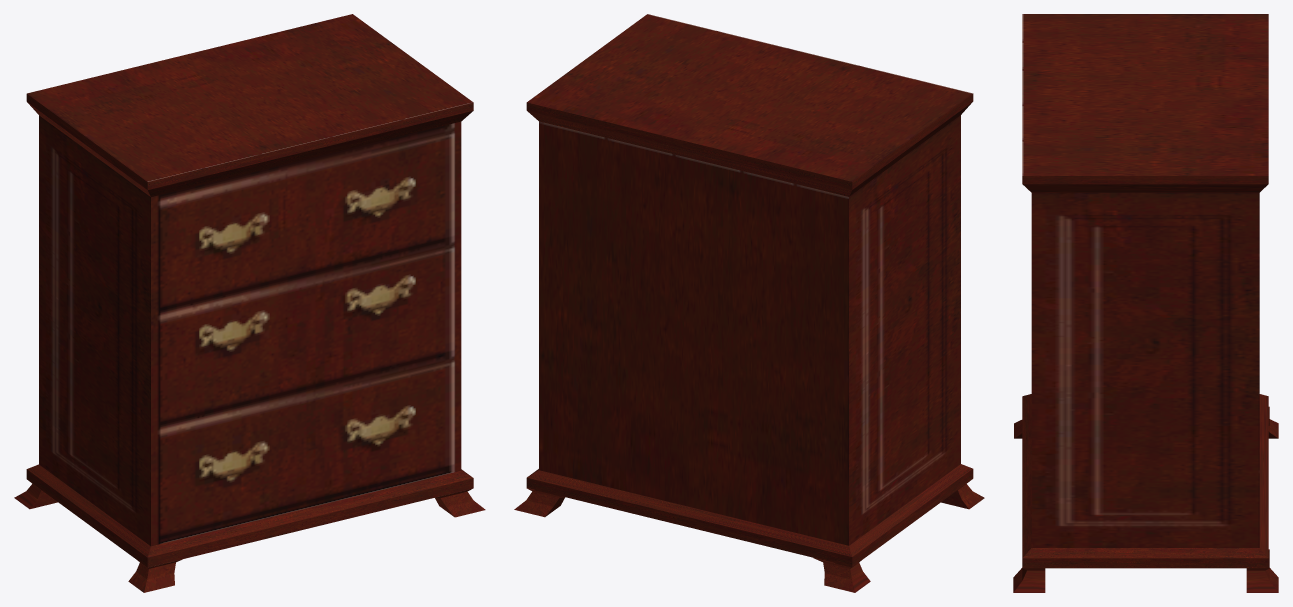
File: med_dresser.fbx
3 renders of one model, left to right at view 1: azimuth 30°, elevation 25°; view 2: azimuth 150°, elevation 25°; view 3: azimuth 270°, elevation 25°, orthographic.
Parts seen in each view (by area): view 1: mesh_0; view 2: mesh_0; view 3: mesh_0.
Part boxes in pixels (x1,y1,x2,y2): mesh_0: (14, 14, 485, 592); mesh_0: (514, 14, 984, 592); mesh_0: (1013, 14, 1278, 592).
Size of the model in its own units: 88 by 99.96 by 58.19.
Materials: 1 (1 with a texture image).
